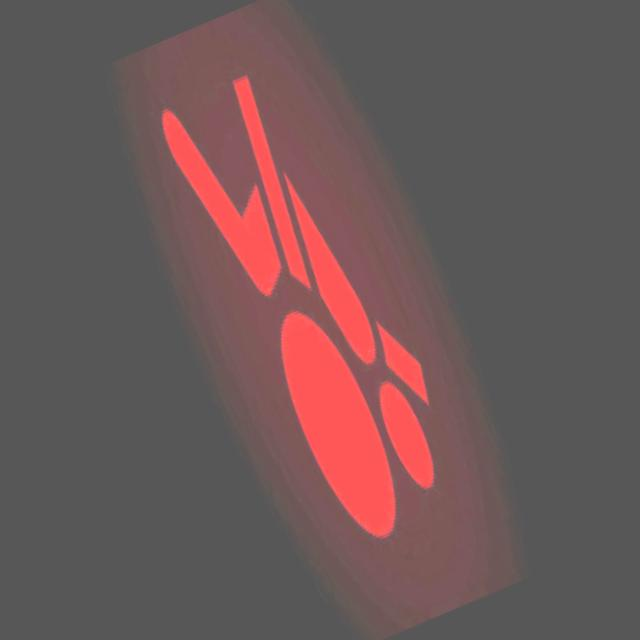kontrolka: (118, 2, 500, 579)
